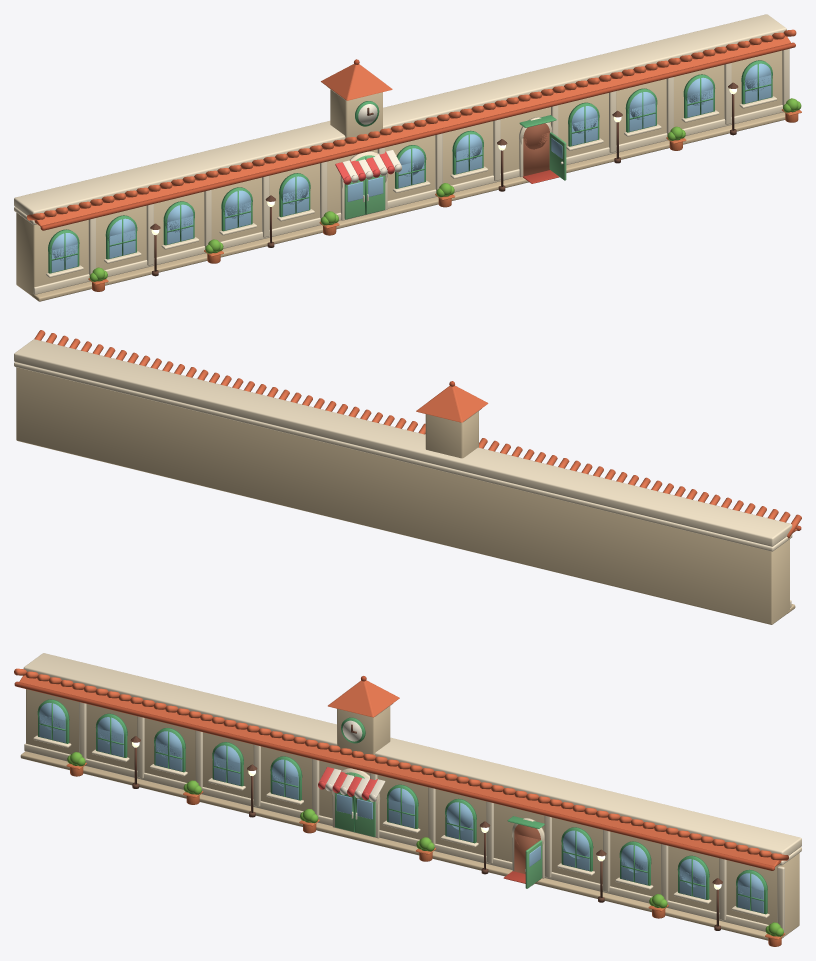
The model's file is station-CWIDbqhI.glb.
3 renders of one model, top to bottom at view 1: azimuth 30°, elevation 25°; view 2: azimuth 150°, elevation 25°; view 3: azimuth 330°, elevation 25°, orthographic.
Parts seen in each view (by area): view 1: station; view 2: station; view 3: station.
Boxes of the visible parts, left/top/right/bottom form: station: left=14, top=14, right=801, bottom=301; station: left=14, top=330, right=801, bottom=624; station: left=14, top=653, right=801, bottom=946.
Size of the model in its own units: 26.39 by 5.09 by 2.22.
